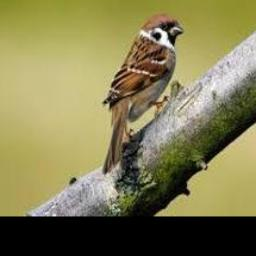Sparrow: (102, 15, 183, 174)
